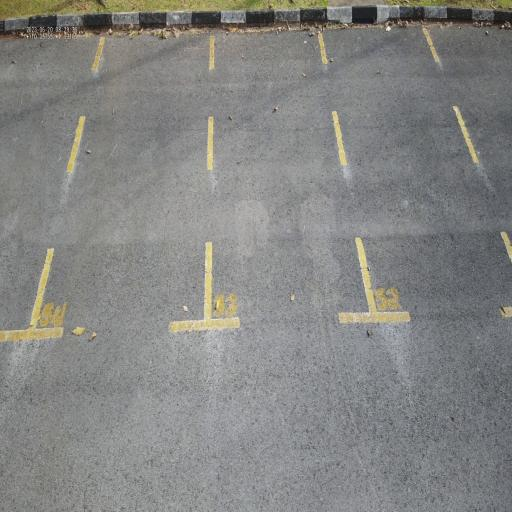Empty: (24, 30, 220, 347), (201, 27, 383, 335)
